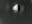person: (13, 5, 19, 15), (20, 5, 25, 17)
